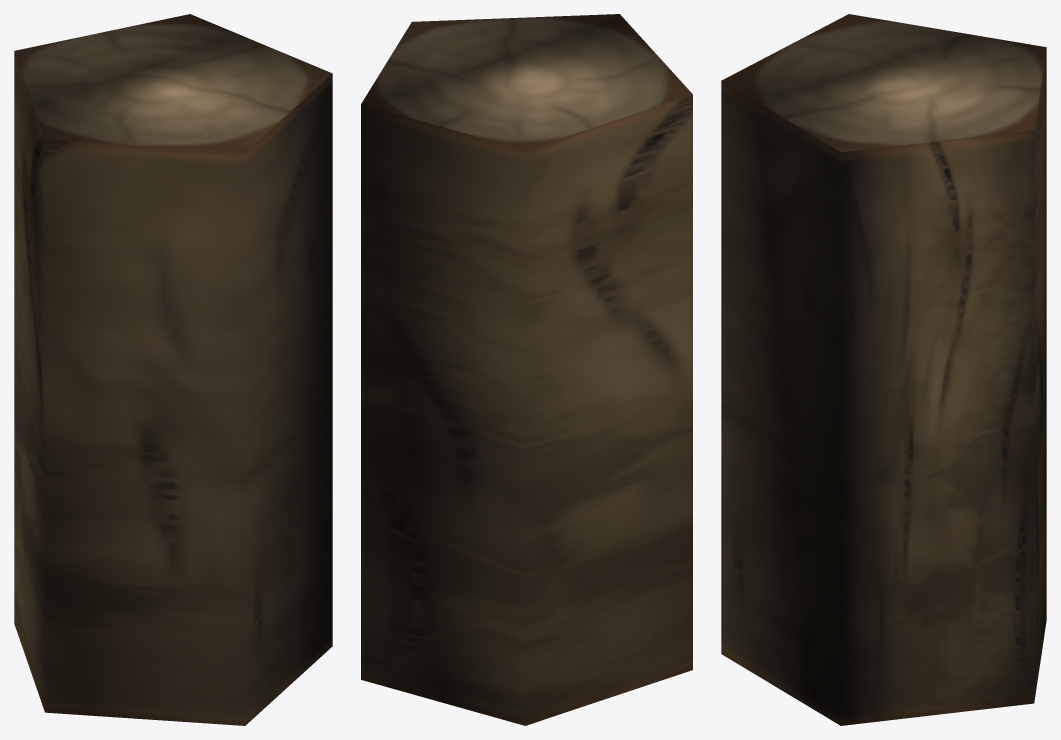
The model's file is TreeLog_1.fbx.
3 views of the same model, side by side, from view 1: azimuth 30°, elevation 25°; view 2: azimuth 150°, elevation 25°; view 3: azimuth 270°, elevation 25° (orthographic).
Parts seen in each view (by area): view 1: Mesh; view 2: Mesh; view 3: Mesh.
Part boxes in pixels (x1,y1,x2,y2): Mesh: (14,14,332,725); Mesh: (361,14,692,725); Mesh: (721,14,1046,725).
Size of the model in its own units: 23.26 by 44.9 by 23.08.
